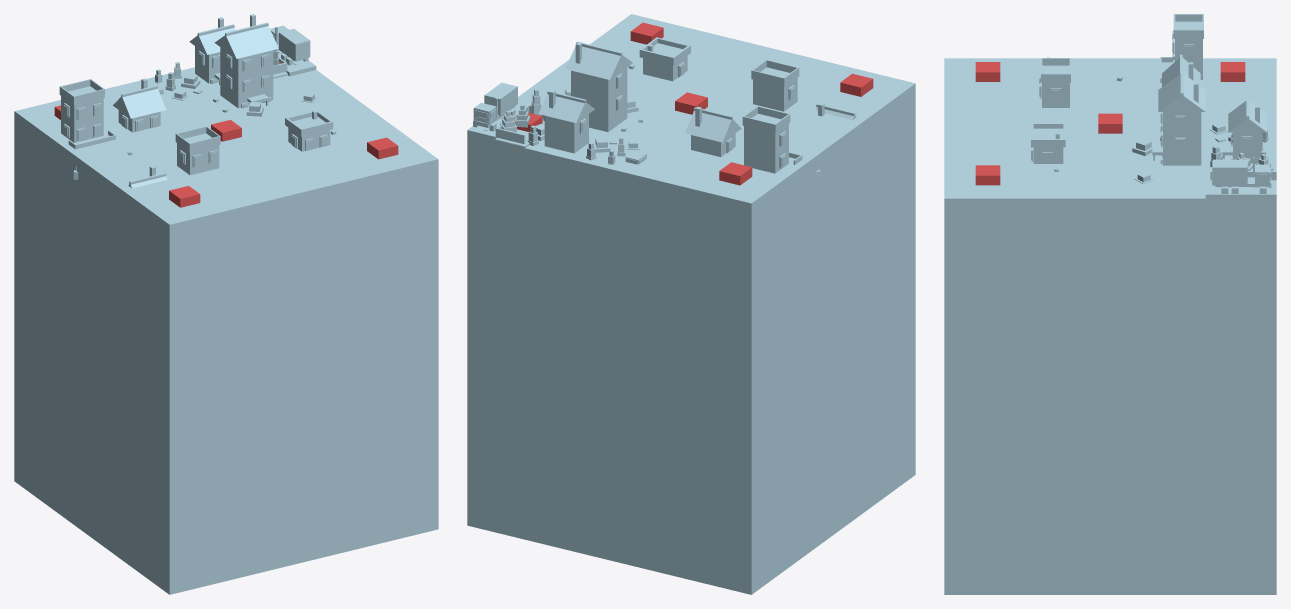
Rendered from block_5_sewersystem_100.glb.
3 renders of one model, left to right at view 1: azimuth 30°, elevation 25°; view 2: azimuth 150°, elevation 25°; view 3: azimuth 270°, elevation 25°, orthographic. The views are drawn at different scales.
Parts seen in each view (by area): view 1: Patch_UpperLeft_b07_SL, Bungalows_UpperLeft_b07_SL, SL_Net_05, Roads_UpperLeft_b07_SL, ULCar_019_SL; view 2: Patch_UpperLeft_b07_SL, Bungalows_UpperLeft_b07_SL, SL_Net_05, ULCar_019_SL; view 3: Patch_UpperLeft_b07_SL, Bungalows_UpperLeft_b07_SL, SL_Net_05, Roads_UpperLeft_b07_SL, ULCar_019_SL.
Boxes of the visible parts, x1,y1,x2,y2 form: Patch_UpperLeft_b07_SL: (14,67,438,594); Bungalows_UpperLeft_b07_SL: (14,14,333,273); SL_Net_05: (54,62,398,207); Roads_UpperLeft_b07_SL: (92,52,437,283); ULCar_019_SL: (270,25,310,65); Patch_UpperLeft_b07_SL: (467,14,915,594); Bungalows_UpperLeft_b07_SL: (495,37,899,235); SL_Net_05: (514,22,873,185); ULCar_019_SL: (473,82,517,131); Patch_UpperLeft_b07_SL: (944,58,1276,594); Bungalows_UpperLeft_b07_SL: (1031,14,1276,180); SL_Net_05: (975,62,1245,185); Roads_UpperLeft_b07_SL: (944,180,1276,230); ULCar_019_SL: (1212,157,1271,193).
Size of the model in its own units: 9.61 by 15.01 by 9.5.
